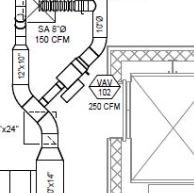VAV: (42, 54, 91, 103)
